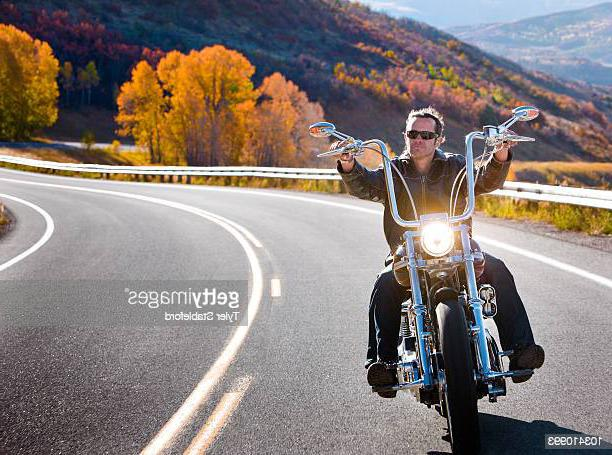motorcycle: (311, 99, 551, 455)
